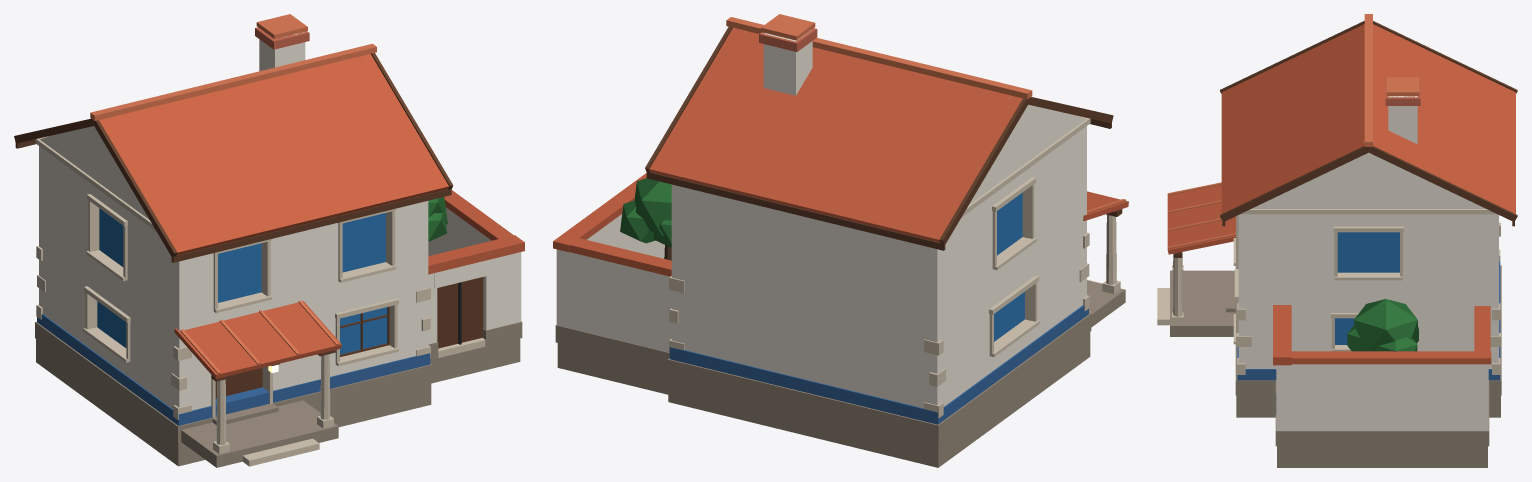
Rendered from 05_extremadura_traditional-lod1.glb.
3 renders of one model, left to right at view 1: azimuth 30°, elevation 25°; view 2: azimuth 150°, elevation 25°; view 3: azimuth 270°, elevation 25°, orthographic. The views are drawn at different scales.
Parts seen in each view (by area): view 1: CasaExtrema_LOD1; view 2: CasaExtrema_LOD1; view 3: CasaExtrema_LOD1.
Boxes of the visible parts, x1,y1,x2,y2 form: CasaExtrema_LOD1: [14, 14, 524, 467]; CasaExtrema_LOD1: [553, 14, 1128, 467]; CasaExtrema_LOD1: [1157, 14, 1517, 467].
Size of the model in its own units: 11.93 by 9.85 by 10.51.
Materials: 2 (2 with a texture image).
